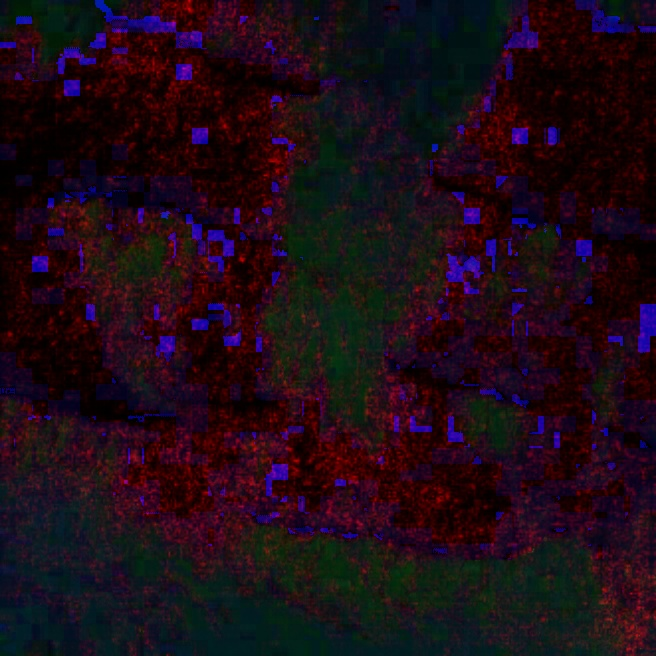rip_current: (241, 28, 496, 514)
